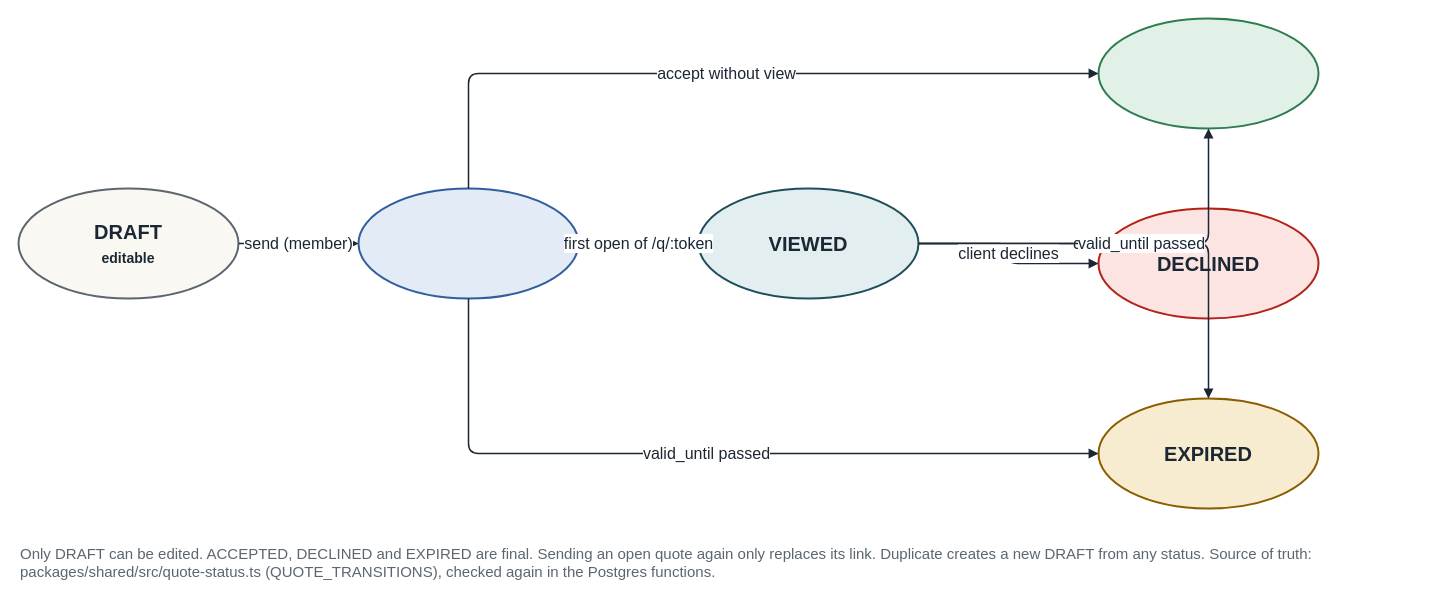
The diagram is 1435 pixels wide and 605 high, and some of its shapes have lost their labels. The box of each missing label's shape, as (x1, y1, x2, y2) in pixels:
ACCEPTED: (1097, 17, 1319, 129)
SENT: (357, 187, 579, 299)
